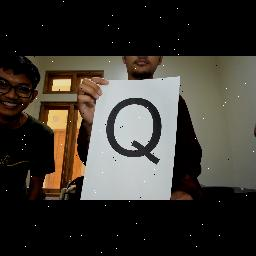q: (102, 96, 168, 176)
